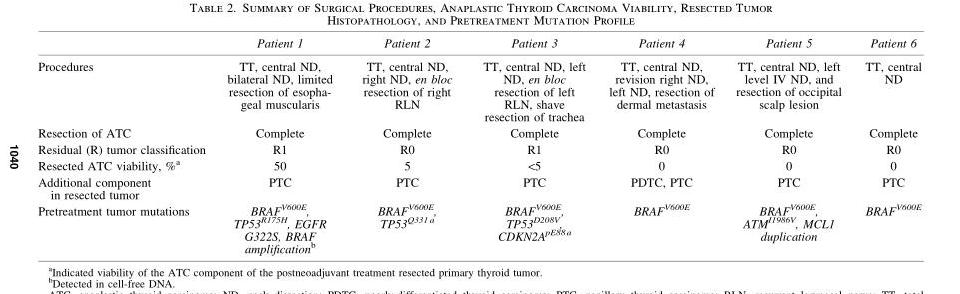table: (38, 37, 921, 254)
table column: (38, 37, 216, 254), (216, 37, 347, 254), (468, 37, 597, 254), (597, 37, 725, 254), (725, 37, 853, 254), (347, 37, 468, 254), (853, 37, 921, 254)
table column header: (38, 37, 921, 54)
table row: (38, 54, 921, 125), (38, 201, 921, 254), (38, 174, 921, 201), (38, 156, 921, 174), (38, 37, 921, 54), (38, 125, 921, 141), (38, 141, 921, 156)
